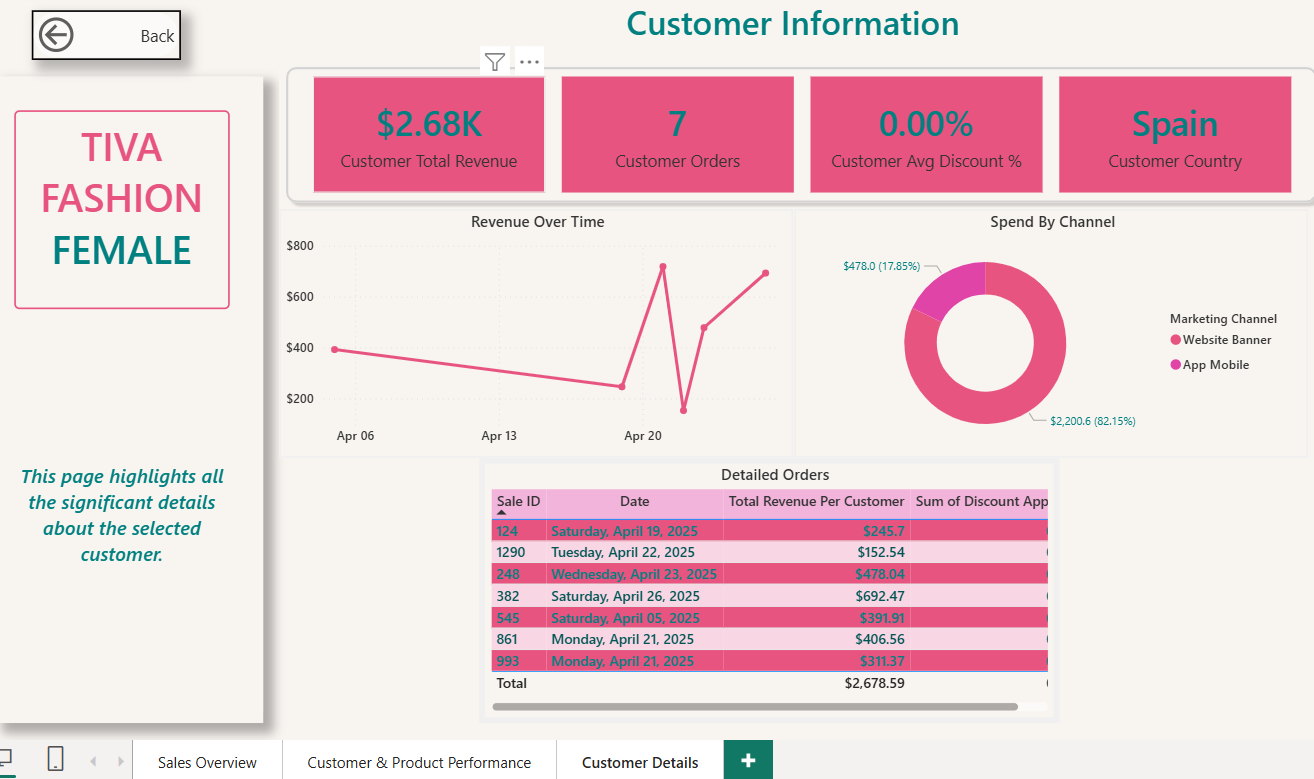

Layout of this report page (visuals, bound fields, positions):
{"tool":"powerbi","page":{"name":"Customer Details","canvas":[1280,720],"ordinal":2},"visuals":[{"type":"textbox","box":[272,0,992,64],"z":0},{"type":"shape","box":[0,80,256,624],"z":1000},{"type":"textbox","box":[16,112,208,192],"z":2000},{"type":"shape","box":[272,64,1008,144],"z":3000},{"type":"card","fields":{"Values":["Sales Items.Customer Total Revenue"]},"box":[304,80,224,112],"z":4000},{"type":"card","fields":{"Values":["Sales Items.Customer Orders"]},"box":[544,80,224,112],"z":5000},{"type":"card","fields":{"Values":["Sales.Customer Avg Discount %"]},"box":[784,80,224,112],"z":6000},{"type":"card","fields":{"Values":["Customers.Customer Country"]},"box":[1024,80,224,112],"z":7000},{"type":"actionButton","box":[32,16,144,48],"z":8000},{"type":"textbox","box":[16,448,208,128],"z":9000},{"type":"lineChart","title":"Revenue Over Time","fields":{"Category":["Date Table.Date"],"Y":["Sales Items.Total Revenue"]},"box":[272,208,496,240],"z":10000},{"type":"donutChart","title":"Spend By Channel","fields":{"Category":["Sales Items.Marketing Channel"],"Y":["Sales Items.Total Revenue"]},"box":[768,208,496,240],"z":11000},{"type":"tableEx","title":"Detailed Orders","fields":{"Values":["Sales.Sale ID","Date Table.Date","Sales Items.Total Revenue Per Customer","Sum(Sales Items.Discount Applied)"]},"box":[464,448,560,256],"z":12000}]}

Visuals, with their boxes on the page's 1280x720 design canvas (x1, y1, x2, y2). These are canvas units, not pixel positions in the 1314x779 screenshot, which may show the page scaled, cropped or inside an application window:
textbox: [x1=272, y1=0, x2=1264, y2=64]
shape: [x1=0, y1=80, x2=256, y2=704]
textbox: [x1=16, y1=112, x2=224, y2=304]
shape: [x1=272, y1=64, x2=1280, y2=208]
card - Sales Items.Customer Total Revenue: [x1=304, y1=80, x2=528, y2=192]
card - Sales Items.Customer Orders: [x1=544, y1=80, x2=768, y2=192]
card - Sales.Customer Avg Discount %: [x1=784, y1=80, x2=1008, y2=192]
card - Customers.Customer Country: [x1=1024, y1=80, x2=1248, y2=192]
actionButton: [x1=32, y1=16, x2=176, y2=64]
textbox: [x1=16, y1=448, x2=224, y2=576]
"Revenue Over Time" lineChart: [x1=272, y1=208, x2=768, y2=448]
"Spend By Channel" donutChart: [x1=768, y1=208, x2=1264, y2=448]
"Detailed Orders" tableEx: [x1=464, y1=448, x2=1024, y2=704]
